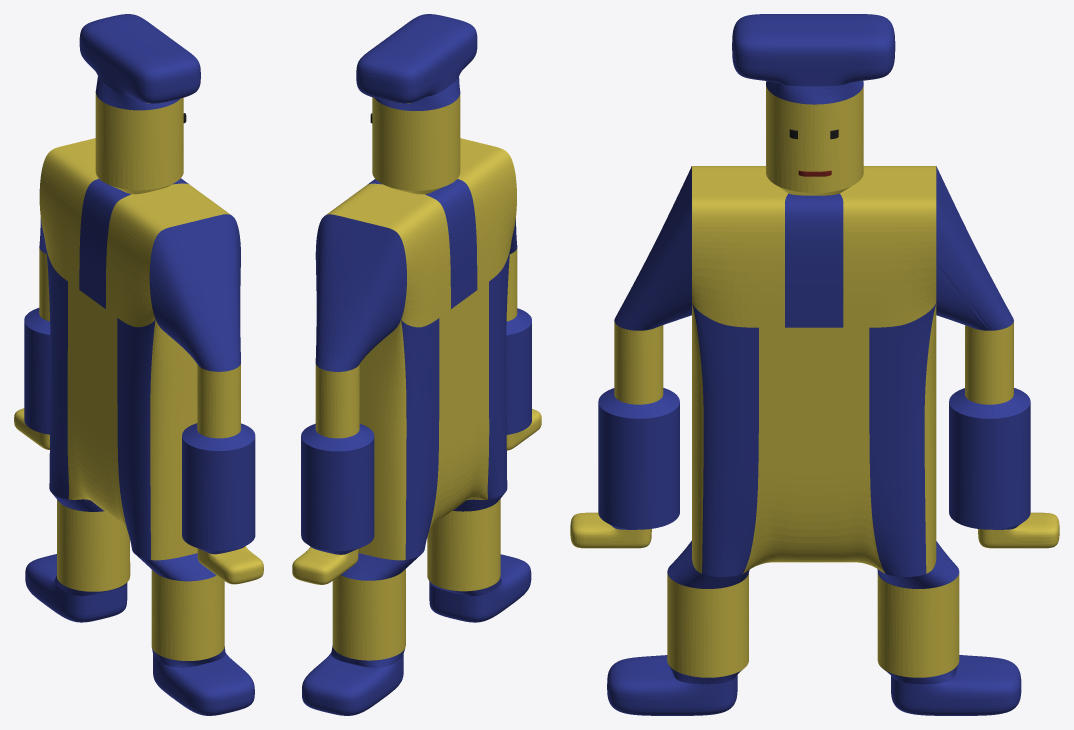
Rendered from Boss.obj.
The picture shows the model from 3 angles, left to right: view 1: azimuth 30°, elevation 25°; view 2: azimuth 150°, elevation 25°; view 3: azimuth 270°, elevation 25°; orthographic projection. The views are drawn at different scales.
Parts seen in each view (by area): view 1: Map1&Map2_v24_Boss_0; view 2: Map1&Map2_v24_Boss_0; view 3: Map1&Map2_v24_Boss_0.
Part boxes in pixels (x1,y1,x2,y2): Map1&Map2_v24_Boss_0: [14, 14, 263, 715]; Map1&Map2_v24_Boss_0: [292, 14, 541, 715]; Map1&Map2_v24_Boss_0: [570, 14, 1059, 715].
Size of the model in its own units: 7.5 by 46 by 30.
